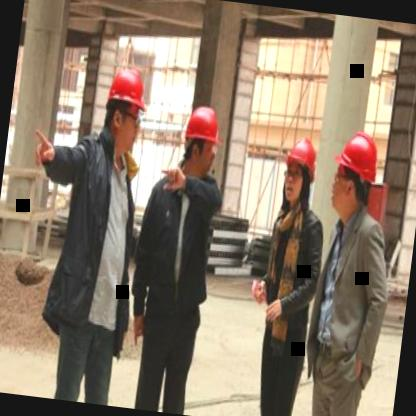helmet: (327, 128, 382, 221), (98, 63, 152, 154), (175, 100, 227, 178), (276, 132, 318, 212)
